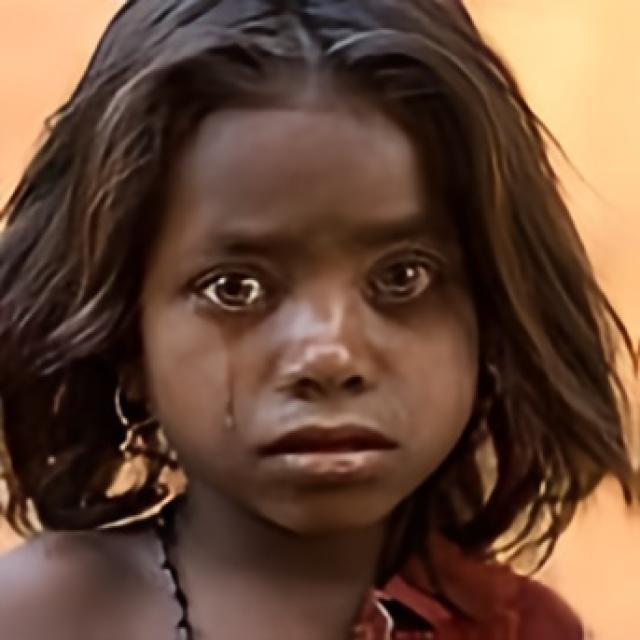sad: (140, 97, 480, 534)
